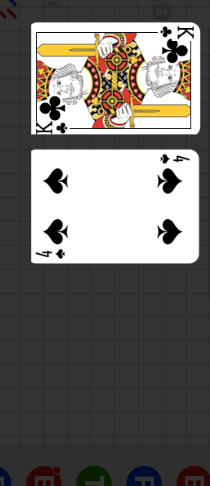4S: (157, 153, 191, 166), (34, 247, 67, 260)
